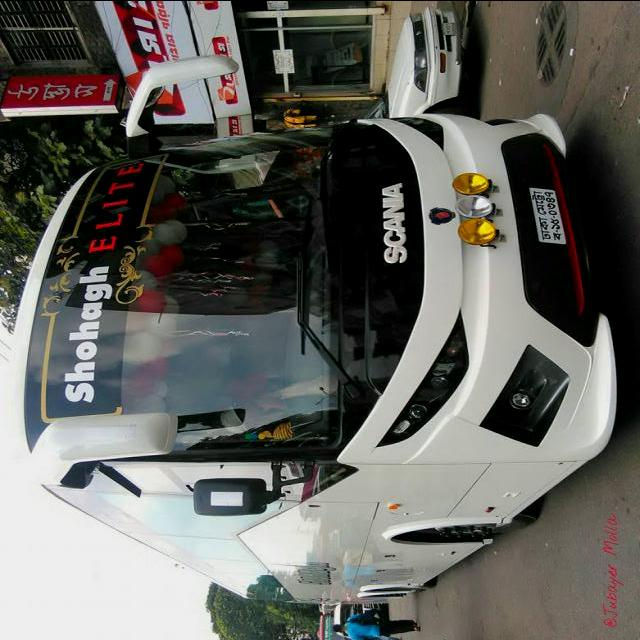bus: (2, 52, 622, 605)
